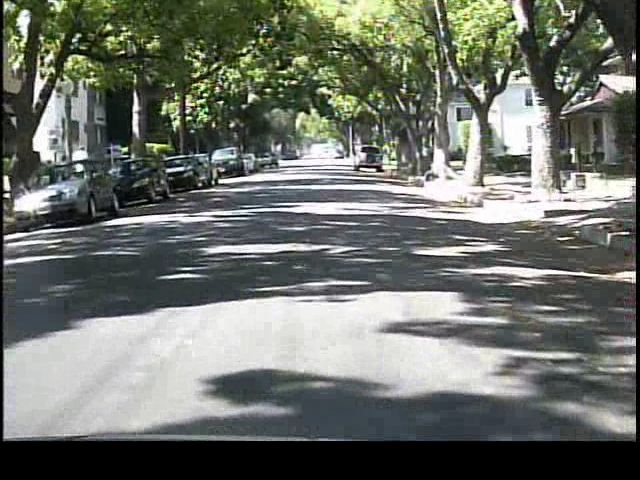person: (71, 142, 97, 197)
